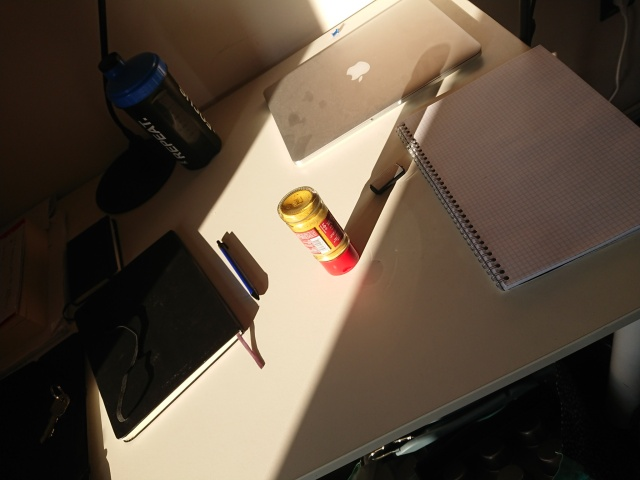Kotanyi Curry Spices Mix 70g: (275, 182, 363, 278)
